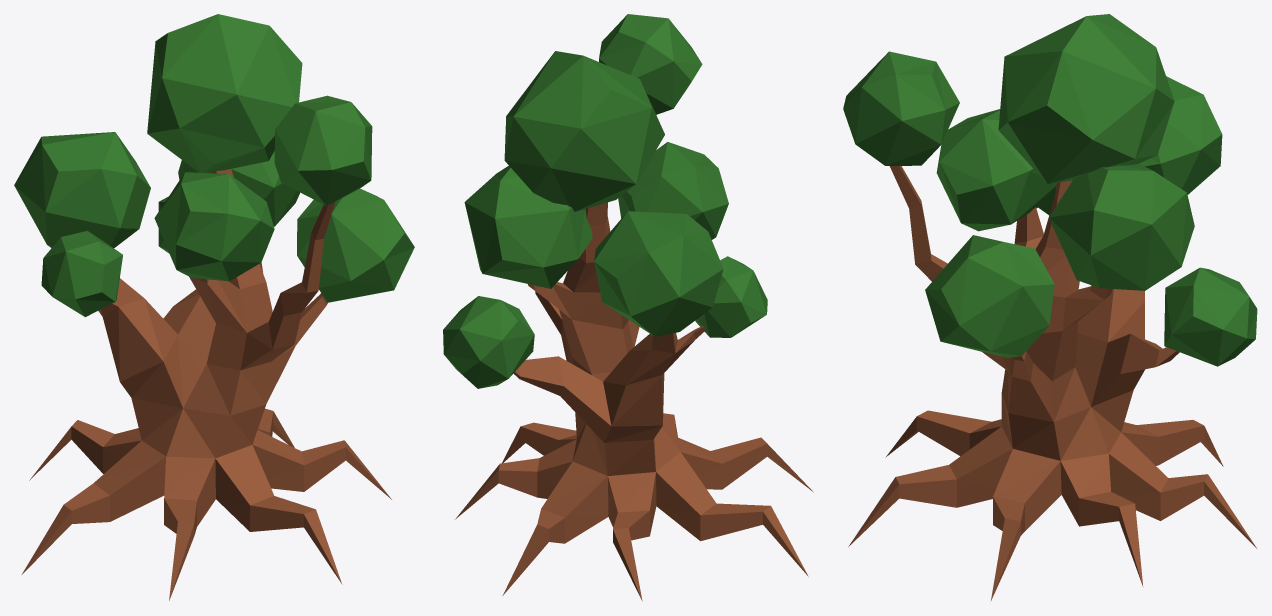
Rendered from Dandelion_Chêne_Clair.FBX.
The picture shows the model from 3 angles, left to right: view 1: azimuth 30°, elevation 25°; view 2: azimuth 150°, elevation 25°; view 3: azimuth 270°, elevation 25°; orthographic projection. The views are drawn at different scales.
Visible parts, largest first — view 1: Cylinder058; view 2: Cylinder058; view 3: Cylinder058.
Part boxes in pixels (x1,y1,x2,y2): Cylinder058: [14, 14, 414, 600]; Cylinder058: [443, 14, 813, 601]; Cylinder058: [843, 14, 1257, 601].
Size of the model in its own units: 1416 by 1914 by 1352.
